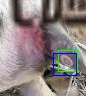text: (58, 50, 77, 71)
